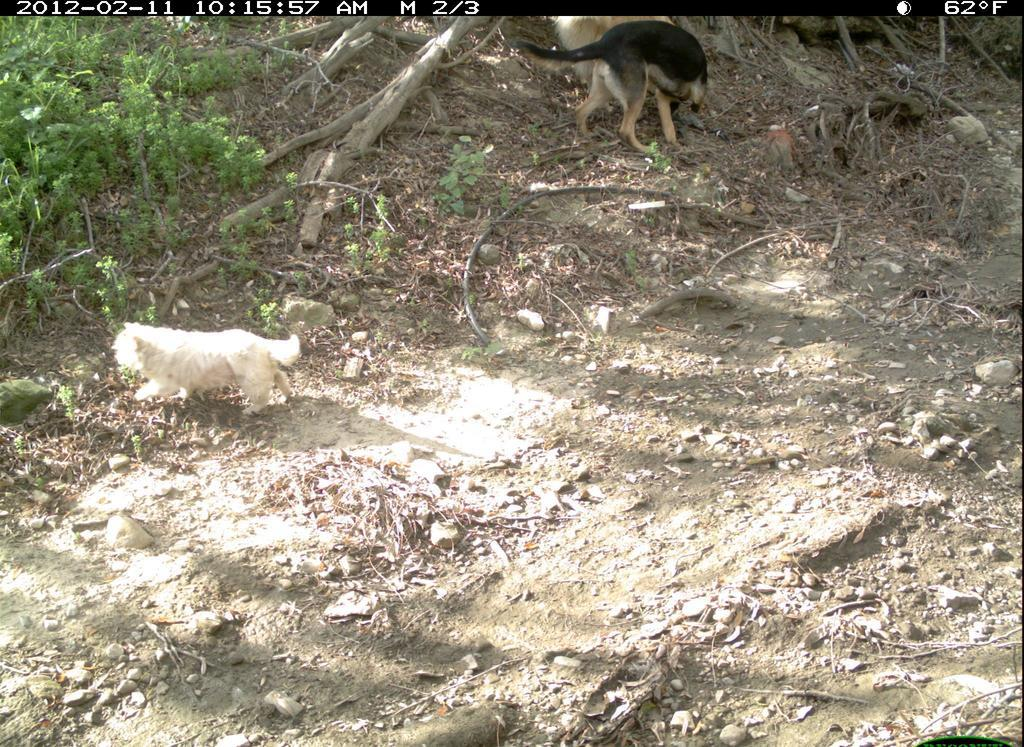dog: (514, 20, 712, 157), (109, 314, 323, 427)
